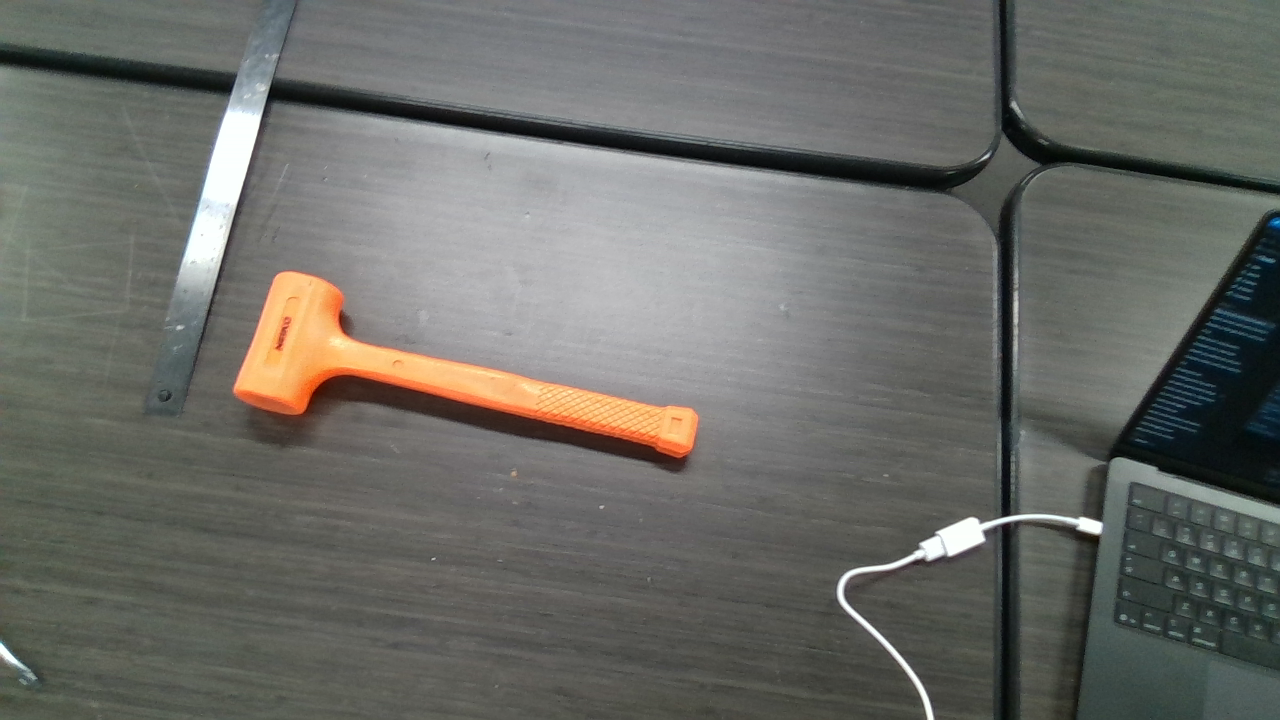Orange Hammer: (237, 270, 700, 457)
